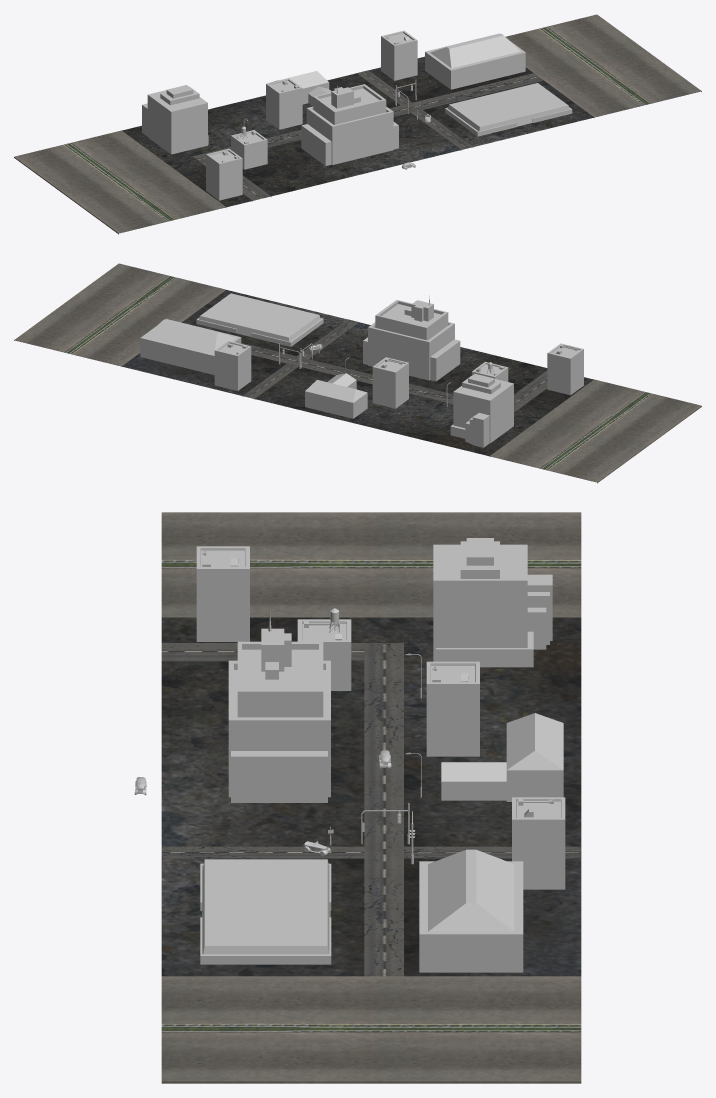
The model's file is Block_02.fbx.
3 renders of one model, top to bottom at view 1: azimuth 30°, elevation 25°; view 2: azimuth 150°, elevation 25°; view 3: azimuth 270°, elevation 25°, orthographic. The views are drawn at different scales.
Visible parts, largest first — view 1: pasted__polySurface1341; view 2: pasted__polySurface1341; view 3: pasted__polySurface1341.
Part boxes in pixels (x1,y1,x2,y2): pasted__polySurface1341: (14, 14, 701, 234); pasted__polySurface1341: (14, 263, 701, 483); pasted__polySurface1341: (134, 512, 581, 1083).
Bounding box in the file's own units: 459 × 152 × 54.65.
